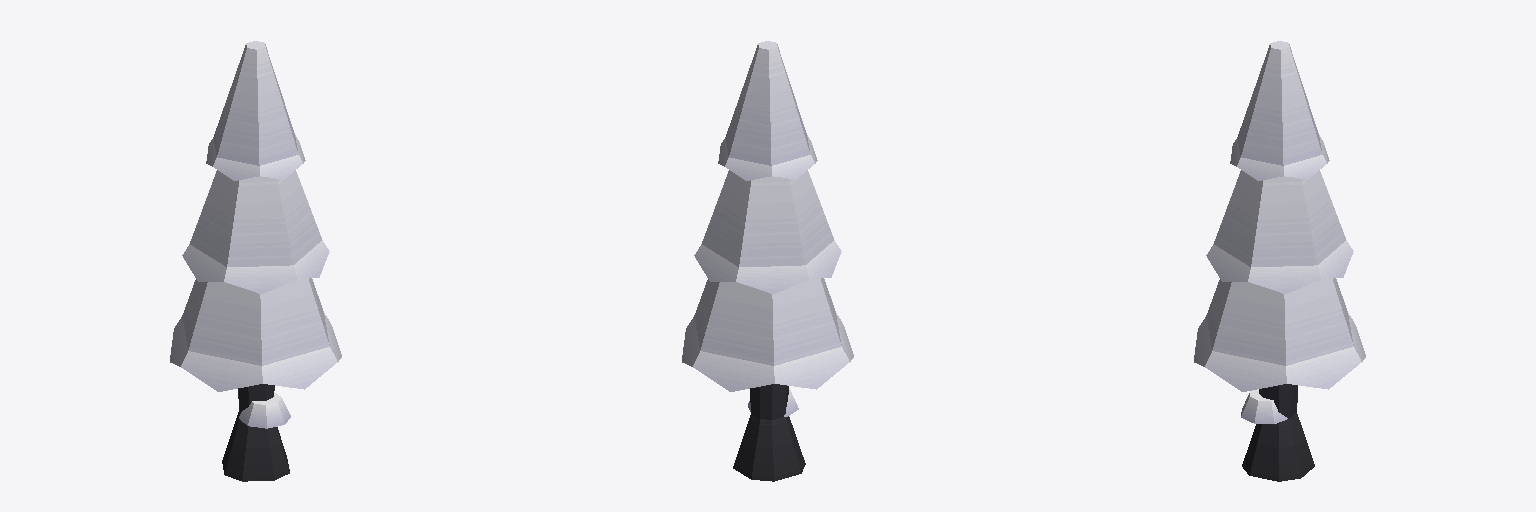
3 views of the same model, side by side, from view 1: azimuth 30°, elevation 25°; view 2: azimuth 150°, elevation 25°; view 3: azimuth 270°, elevation 25° (orthographic).
Visible parts, largest first — view 1: tree.057; view 2: tree.057; view 3: tree.057.
Part boxes in pixels (bbox=[...]): tree.057: bbox=[170, 41, 341, 481]; tree.057: bbox=[682, 41, 853, 481]; tree.057: bbox=[1194, 41, 1365, 481].
Bounding box in the file's own units: 1.36 × 3.47 × 1.29.
1 materials, 1 textured.